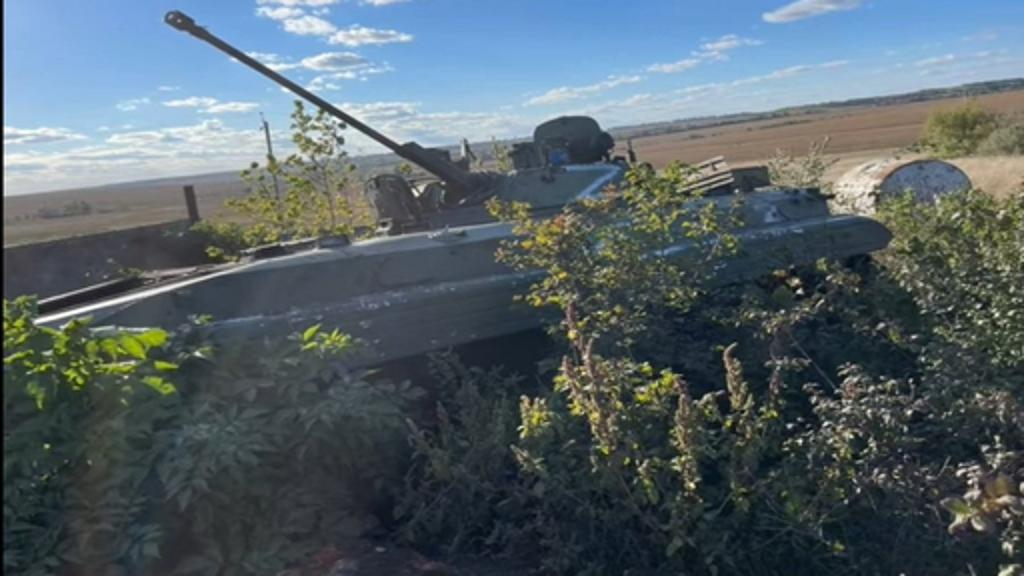APC-IFV: (0, 4, 894, 444)
